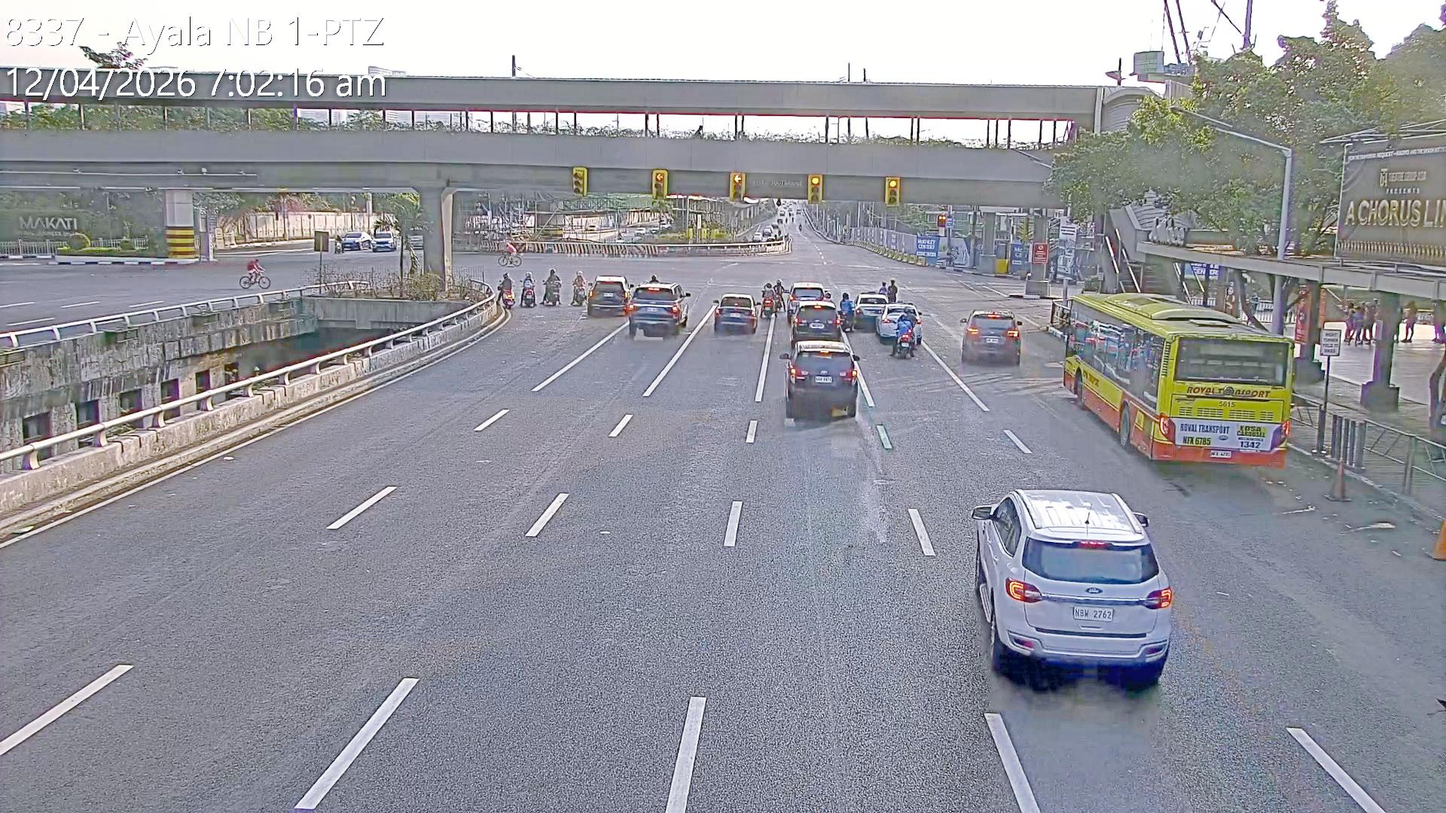Car: (968, 486, 1167, 680), (782, 339, 862, 421), (627, 280, 693, 336), (958, 309, 1017, 364), (786, 300, 844, 344), (874, 301, 923, 345), (586, 275, 633, 318), (712, 294, 758, 335), (782, 282, 828, 322), (853, 292, 891, 330), (337, 230, 372, 251), (371, 227, 396, 251)
Motor: (887, 319, 918, 358), (541, 264, 564, 309), (569, 266, 592, 310), (758, 278, 780, 323), (517, 271, 540, 311), (496, 282, 513, 307)
Not Accident: (784, 277, 853, 423), (591, 267, 689, 341), (491, 254, 597, 320), (755, 265, 840, 347), (855, 286, 925, 361)
